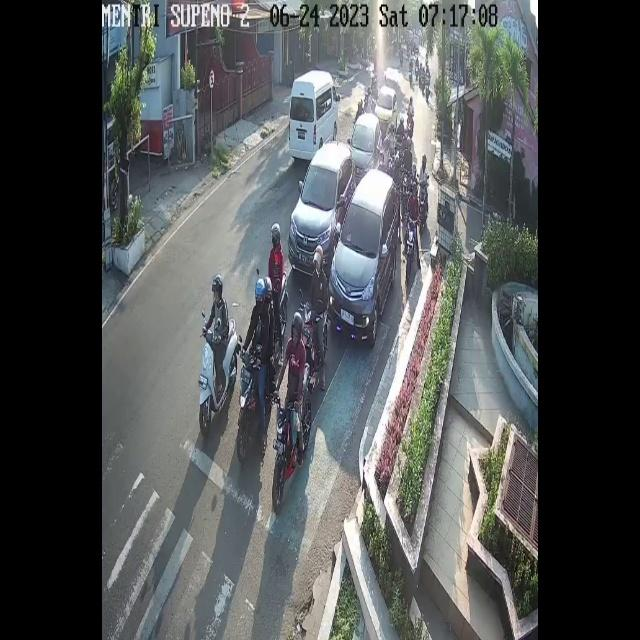bus: (234, 343, 274, 463), (276, 383, 314, 505), (198, 319, 238, 434), (303, 292, 328, 373), (404, 214, 420, 294), (269, 274, 286, 337), (418, 180, 428, 221), (402, 164, 416, 188)
car: (289, 72, 339, 160)
motorcycle: (336, 170, 400, 335), (289, 140, 355, 282), (350, 112, 381, 178), (376, 87, 397, 129)
